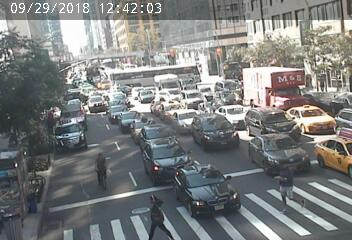car: (176, 166, 247, 216), (252, 69, 308, 109), (146, 138, 191, 173), (254, 133, 303, 165), (294, 103, 337, 133), (57, 124, 96, 157), (248, 108, 297, 132), (194, 116, 232, 146), (110, 70, 216, 80), (316, 141, 352, 164), (215, 104, 252, 124), (63, 102, 87, 127), (154, 76, 176, 93), (139, 124, 166, 137), (106, 90, 125, 105), (118, 111, 138, 125), (109, 104, 129, 117), (133, 119, 153, 132), (176, 111, 193, 125), (85, 93, 101, 107), (136, 90, 153, 102), (163, 103, 179, 115), (183, 88, 200, 97), (153, 97, 170, 105)
